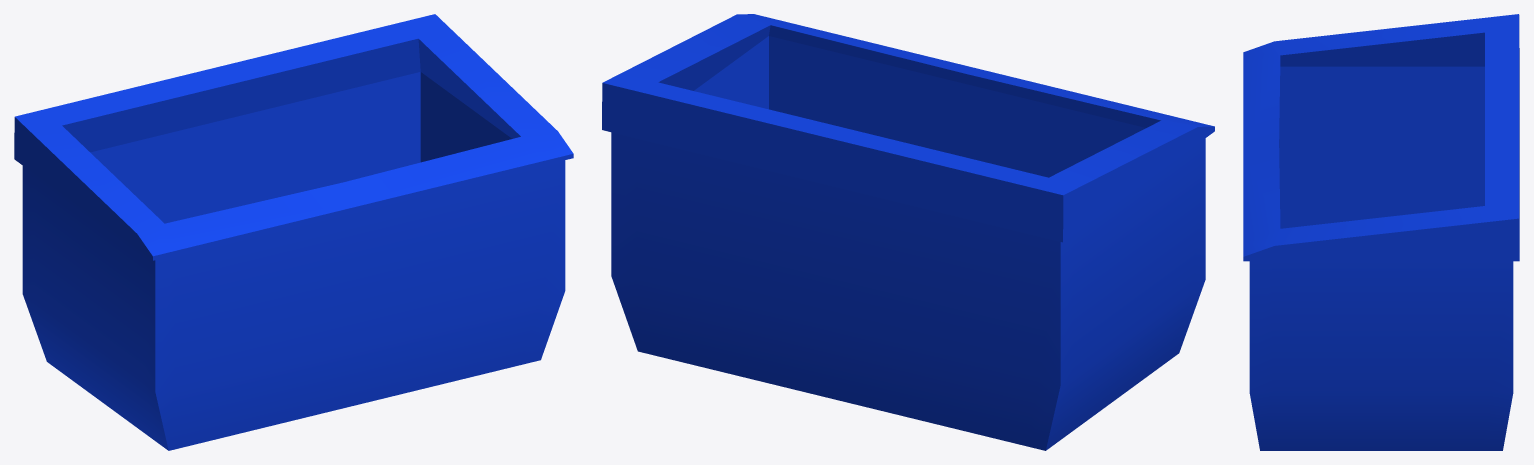
Rendered from cacamba.FBX.
3 renders of one model, left to right at view 1: azimuth 30°, elevation 25°; view 2: azimuth 150°, elevation 25°; view 3: azimuth 270°, elevation 25°, orthographic. The views are drawn at different scales.
Parts seen in each view (by area): view 1: Box001; view 2: Box001; view 3: Box001.
Part boxes in pixels (x1,y1,x2,y2): Box001: (14, 14, 573, 450); Box001: (602, 14, 1214, 450); Box001: (1243, 14, 1519, 450).
Size of the model in its own units: 118 by 65.94 by 67.58.
